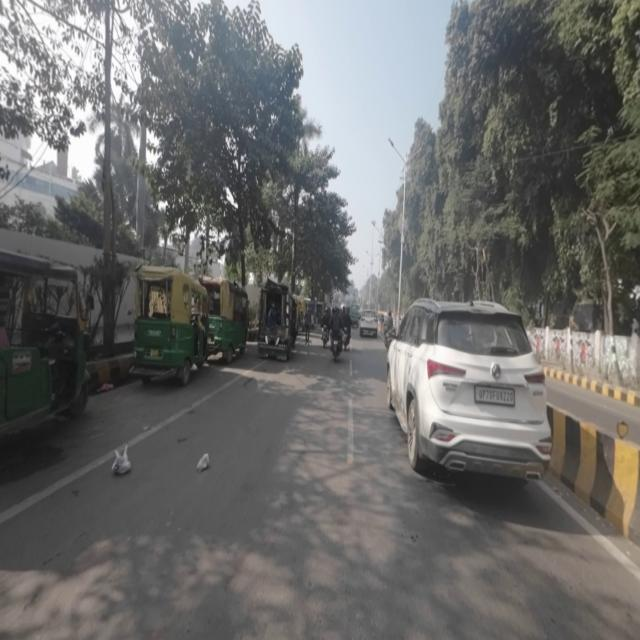Garbage: (106, 437, 135, 483), (195, 448, 214, 479)
